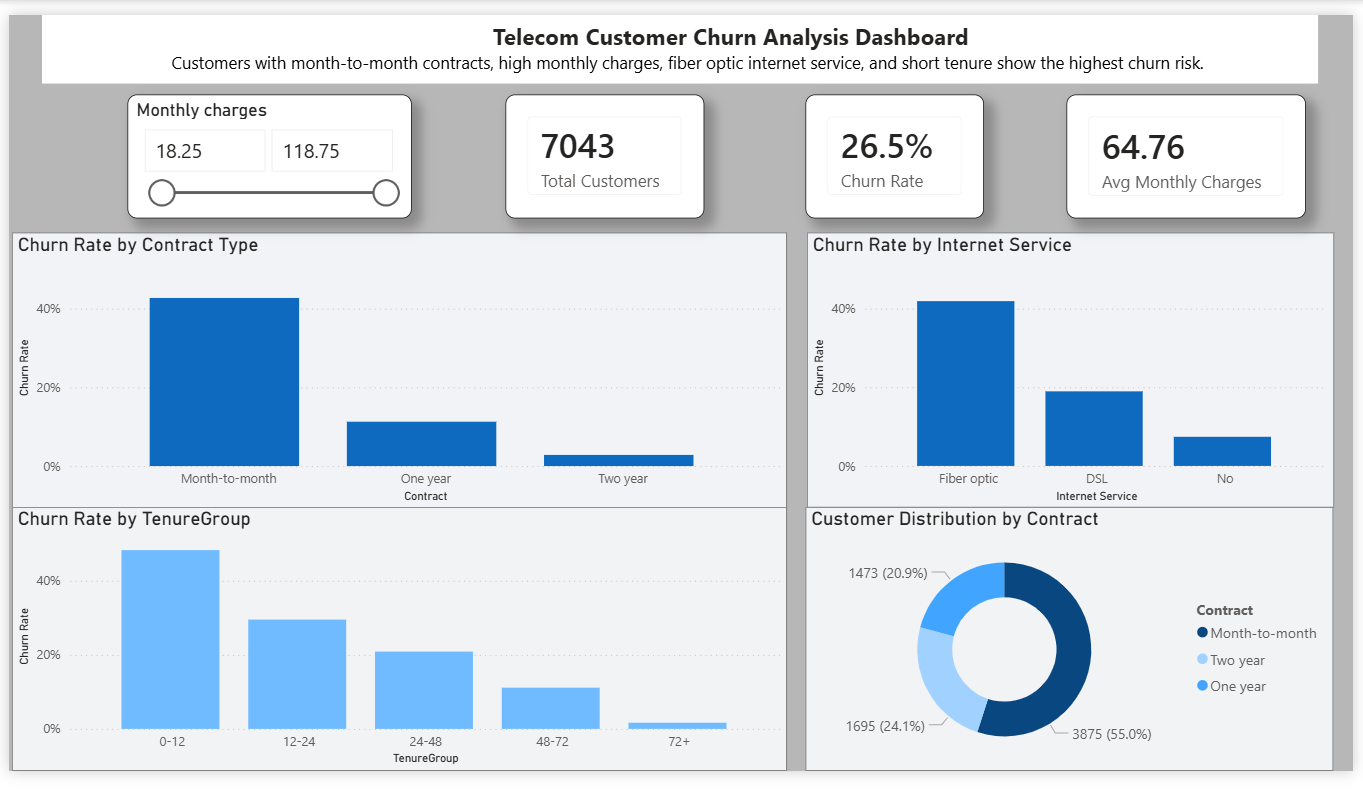

Layout of this report page (visuals, bound fields, positions):
{"tool":"powerbi","page":{"name":"Page 1","canvas":[1280,720],"ordinal":0},"visuals":[{"type":"clusteredColumnChart","title":"Churn Rate by Contract Type","fields":{"Y":["telco_churn_features.Churn Rate"],"Category":["telco_churn_features.Contract"]},"box":[3.2,206.8,738,262.5],"z":0},{"type":"cardVisual","fields":{"Data":["telco_churn_features.Churn Rate"]},"box":[758.7,76.3,170.2,117.7],"z":1000},{"type":"cardVisual","fields":{"Data":["telco_churn_features.Total Customers"]},"box":[472.4,76.3,189.3,117.7],"z":3000},{"type":"clusteredColumnChart","title":"Churn Rate by Internet Service","fields":{"Category":["telco_churn_features.Internet Service"],"Y":["telco_churn_features.Churn Rate"]},"box":[759.4,207.3,502,262.3],"z":4000},{"type":"cardVisual","fields":{"Data":["telco_churn_features.Avg Monthly Charges"]},"box":[1007.2,76.1,228.3,118.2],"z":5000},{"type":"slicer","title":"Monthly charges","fields":{"Values":["telco_churn_features.Monthly Charges"]},"box":[112.9,76.3,270.4,117.7],"z":5001},{"type":"clusteredColumnChart","title":"Churn Rate by TenureGroup","fields":{"Category":["telco_churn_features.TenureGroup"],"Y":["telco_churn_features.Churn Rate"]},"box":[3.2,469.2,738,251.3],"z":5002},{"type":"donutChart","title":"Customer Distribution by Contract ","fields":{"Category":["telco_churn_features.Contract"],"Y":["Sum(telco_churn_features.Count)"]},"box":[758.7,469.2,502.6,251.3],"z":5003},{"type":"textbox","box":[31.8,0,1215.2,65.2],"z":5004}]}

Visuals, with their boxes in screenshot pixels (x1, y1, x2, y2), scaled from the page's 1280x720 canvas onto the 1363x790 screenshot:
"Churn Rate by Contract Type" clusteredColumnChart: 3 227 789 515
cardVisual - telco_churn_features.Churn Rate: 808 84 989 213
cardVisual - telco_churn_features.Total Customers: 503 84 705 213
"Churn Rate by Internet Service" clusteredColumnChart: 809 227 1343 515
cardVisual - telco_churn_features.Avg Monthly Charges: 1073 83 1316 213
"Monthly charges" slicer: 120 84 408 213
"Churn Rate by TenureGroup" clusteredColumnChart: 3 515 789 789
"Customer Distribution by Contract " donutChart: 808 515 1343 789
textbox: 34 0 1328 72
